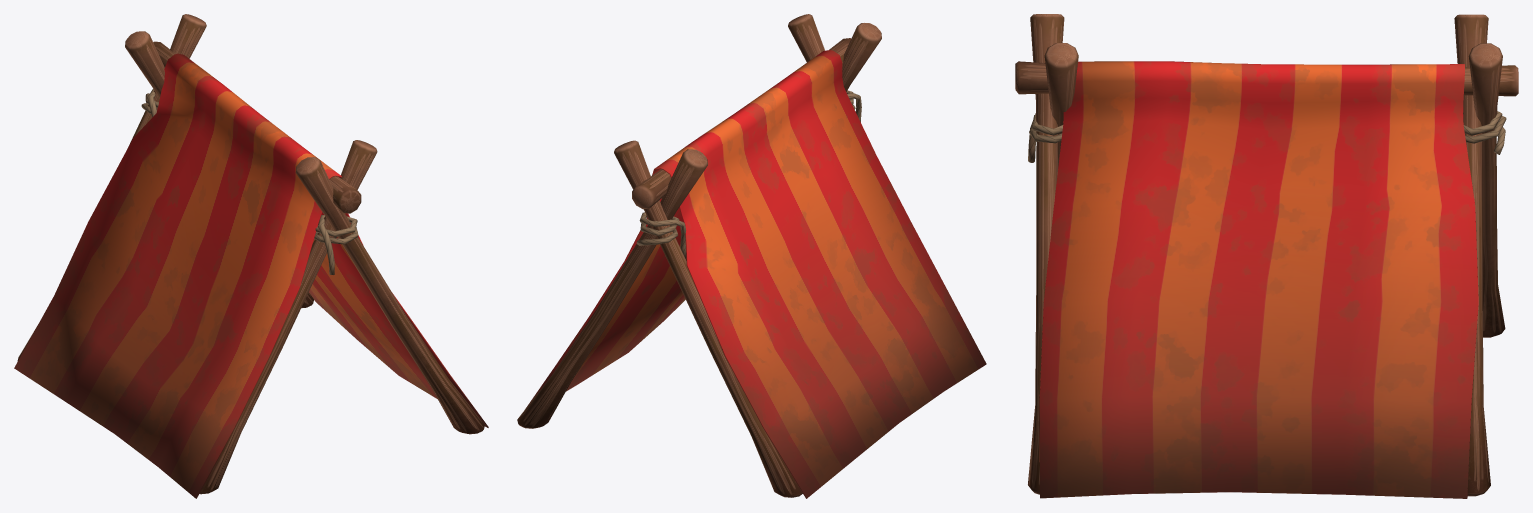
The model's file is tent.fbx.
3 views of the same model, side by side, from view 1: azimuth 30°, elevation 25°; view 2: azimuth 150°, elevation 25°; view 3: azimuth 270°, elevation 25° (orthographic). The views are drawn at different scales.
Visible parts, largest first — view 1: tent; view 2: tent; view 3: tent.
Boxes of the visible parts, box(x1,y1,x2,y2) form: tent: box(14, 14, 488, 498); tent: box(517, 14, 986, 498); tent: box(1015, 14, 1518, 498).
Size of the model in its own units: 2.92 by 2.95 by 3.51.
